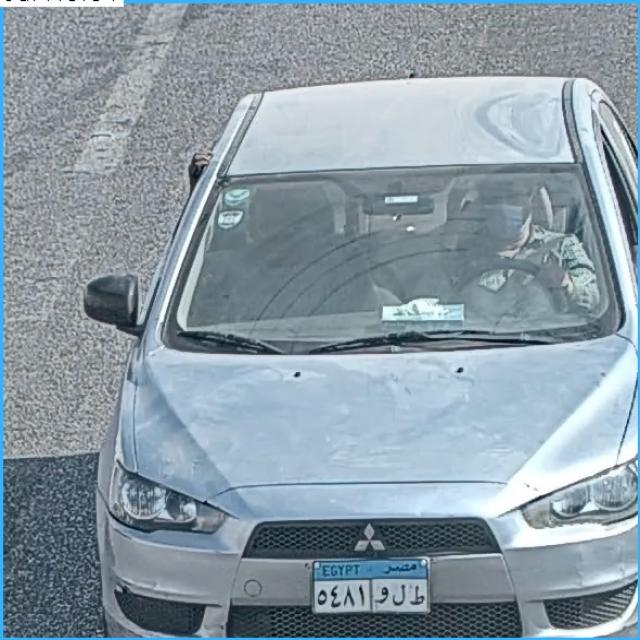windshield: (164, 178, 612, 334)
